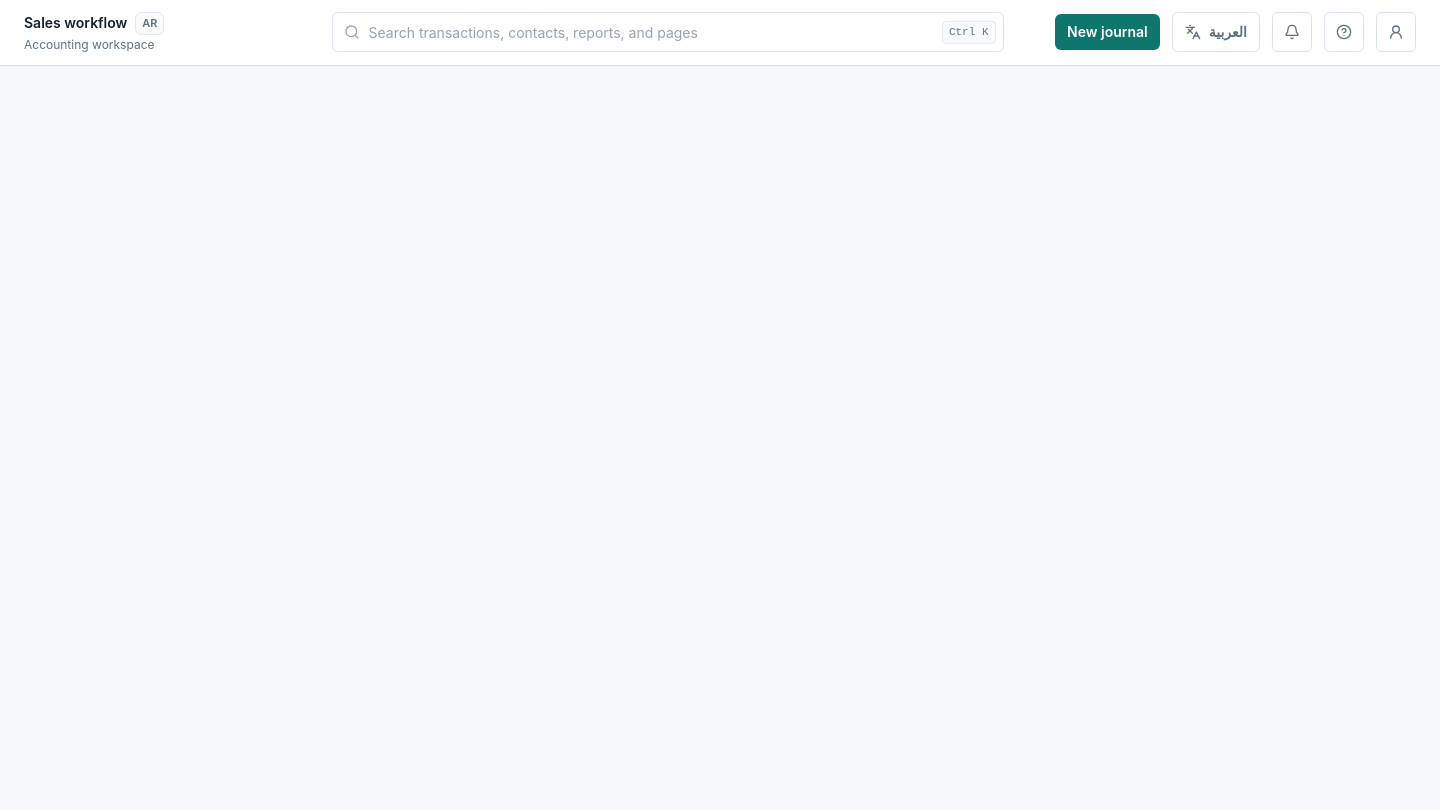
Test: Topbar action menus › opens help with existing resource links and current-page context
What coordinates should you click on to do the following:
click the button named "Help"
I would click on:
 (1344, 32)
Its box is [1324,12,1364,52].
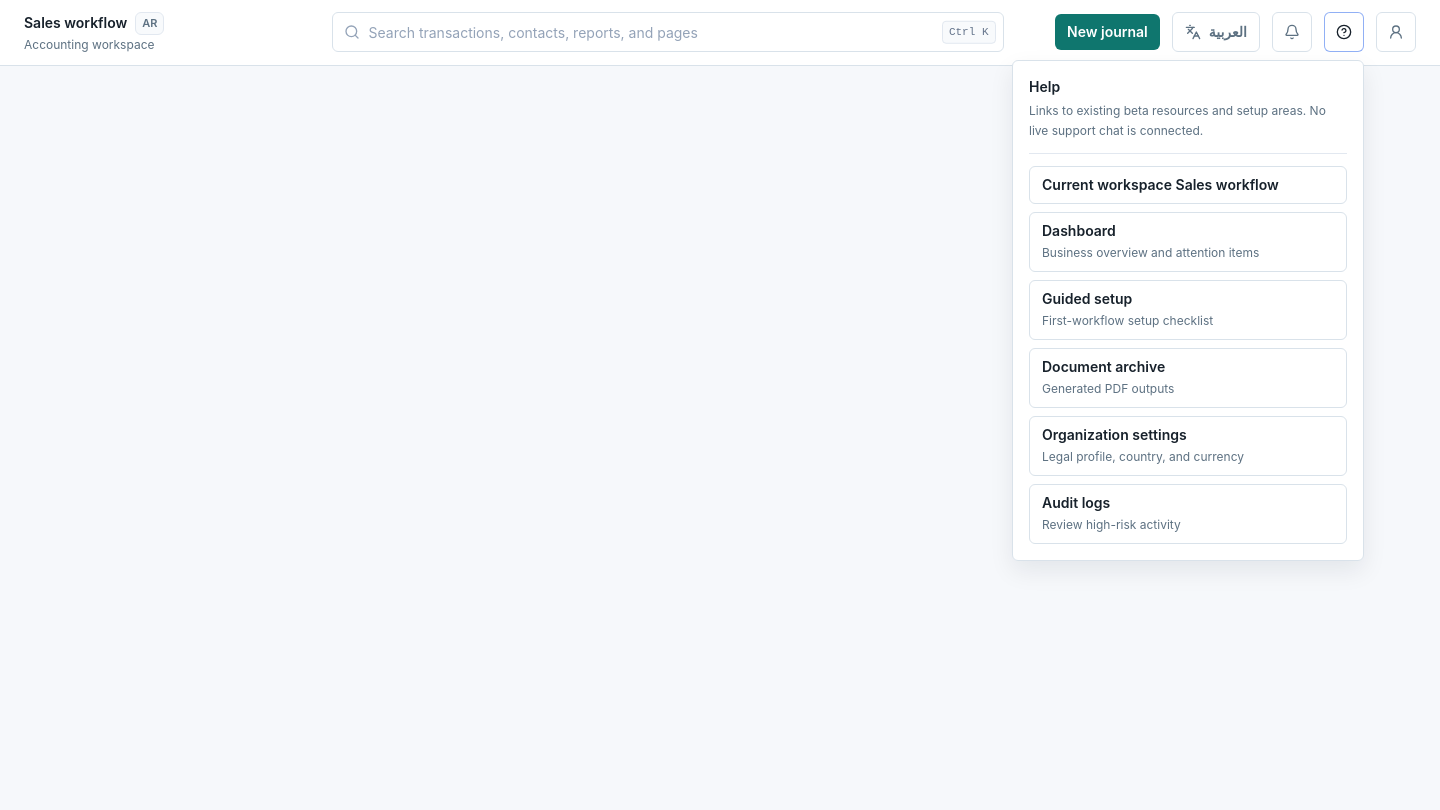
Expected: the text "existing beta resources" is shown, [1029,103,1326,138]
